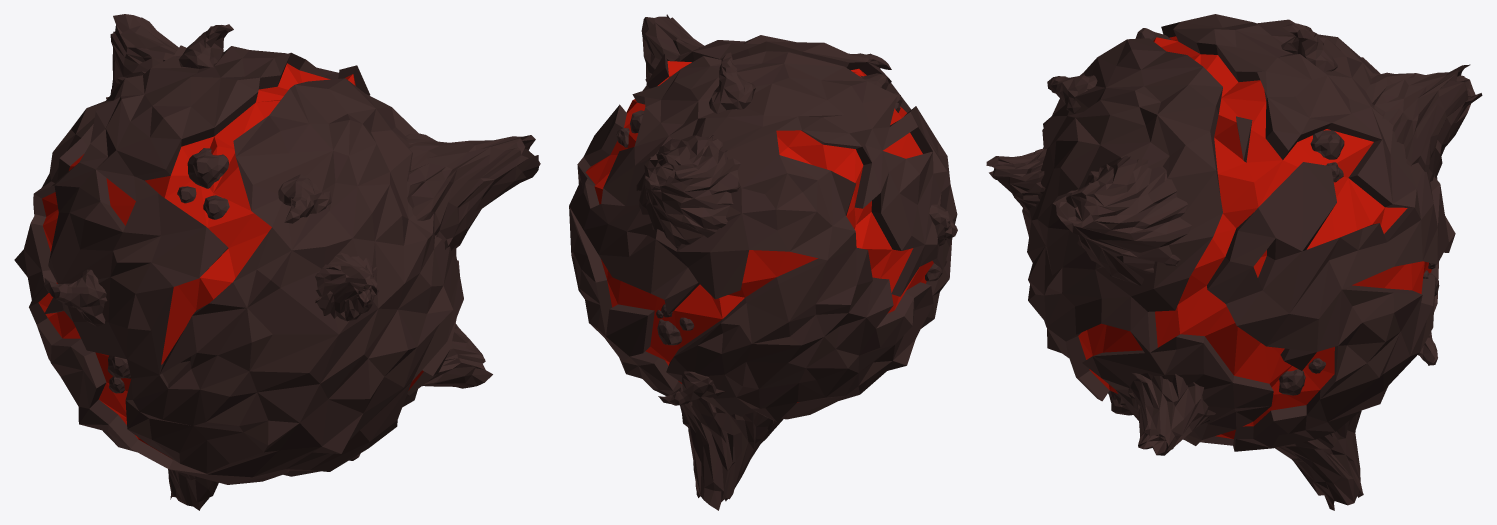
The model's file is Planet_fire.fbx.
The picture shows the model from 3 angles, left to right: view 1: azimuth 30°, elevation 25°; view 2: azimuth 150°, elevation 25°; view 3: azimuth 270°, elevation 25°; orthographic projection. The views are drawn at different scales.
Parts seen in each view (by area): view 1: Planet_lowpoly; view 2: Planet_lowpoly; view 3: Planet_lowpoly.
Boxes of the visible parts, x1,y1,x2,y2 form: Planet_lowpoly: (14,14,540,510); Planet_lowpoly: (569,14,957,510); Planet_lowpoly: (986,14,1482,510).
Bounding box in the file's own units: 125 × 140 × 129.
